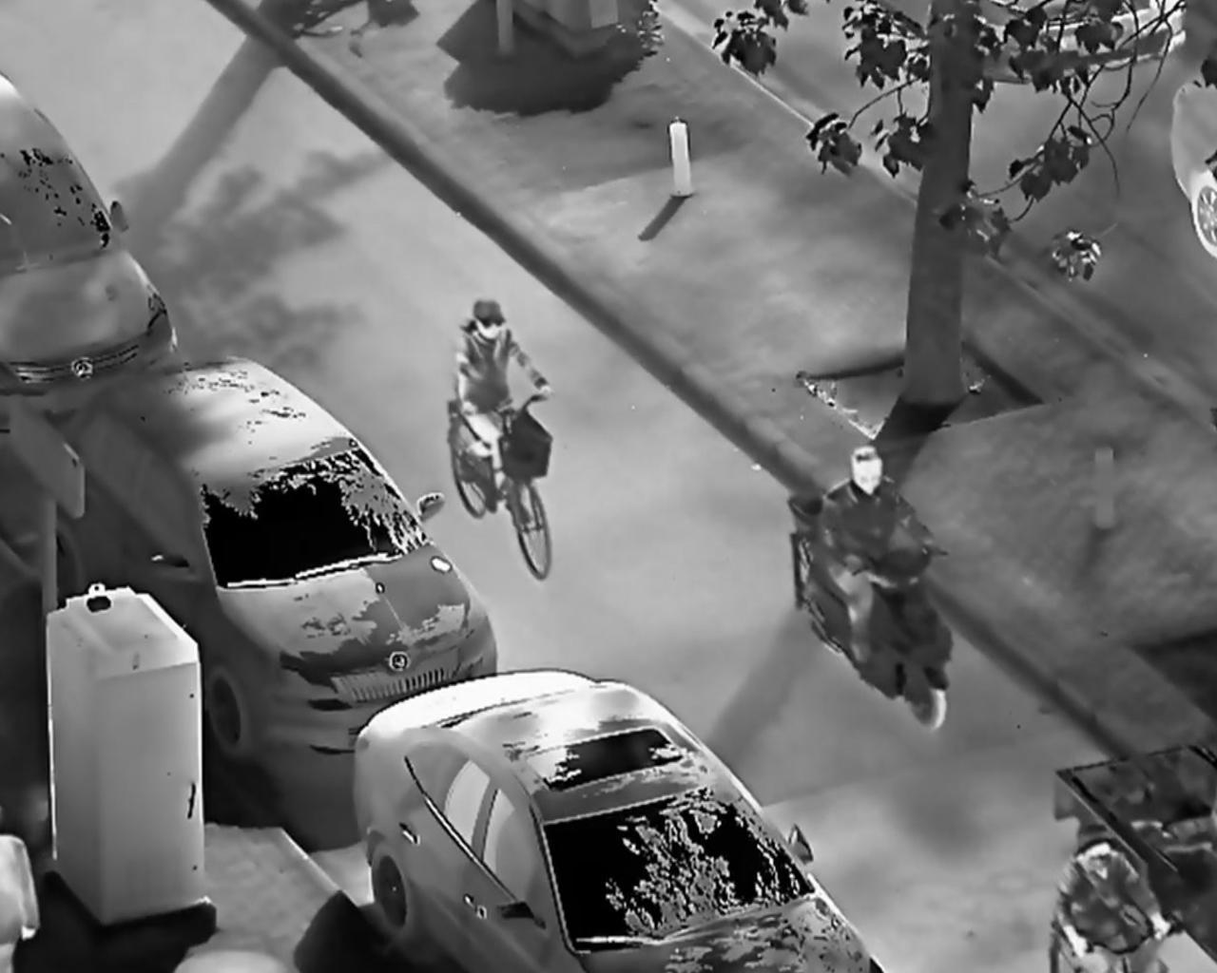person: (814, 444, 947, 669), (451, 296, 553, 499), (1050, 819, 1169, 972)
